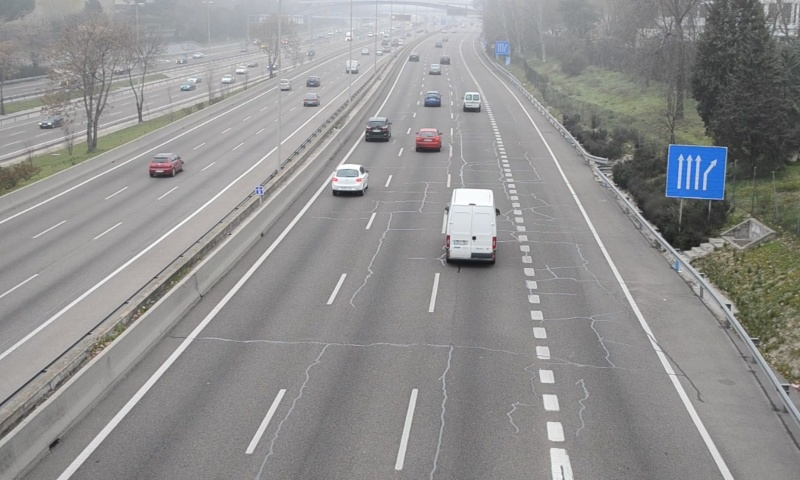car: (330, 164, 367, 192), (364, 116, 392, 143), (415, 128, 442, 153), (423, 90, 442, 108)
van: (446, 188, 497, 265), (462, 91, 482, 113)
